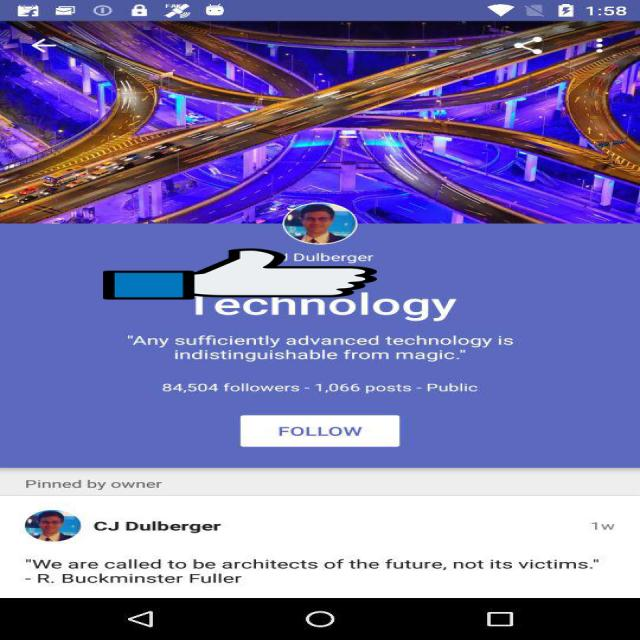privacy zuckering: (103, 247, 377, 301)
